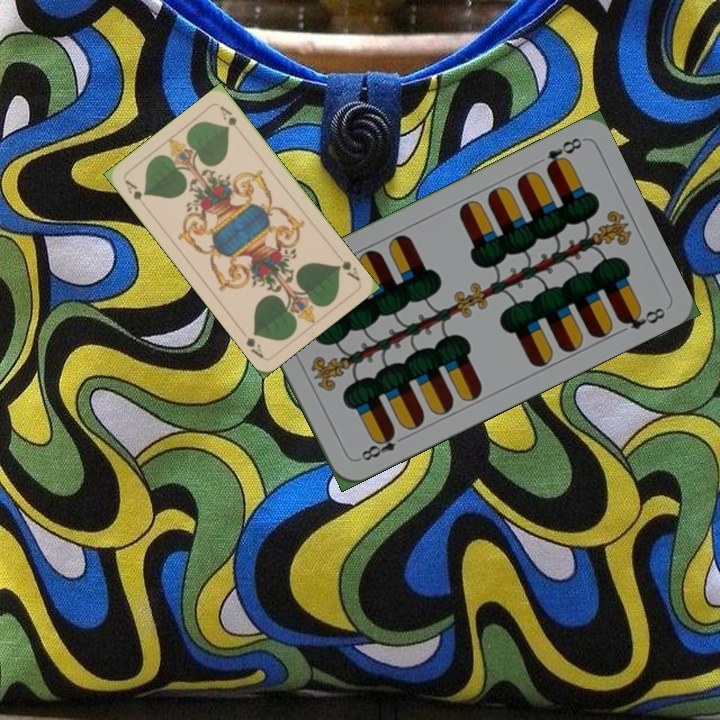E8: (353, 427, 409, 464), (542, 133, 585, 173)
GA: (121, 176, 150, 211), (333, 256, 363, 284)
